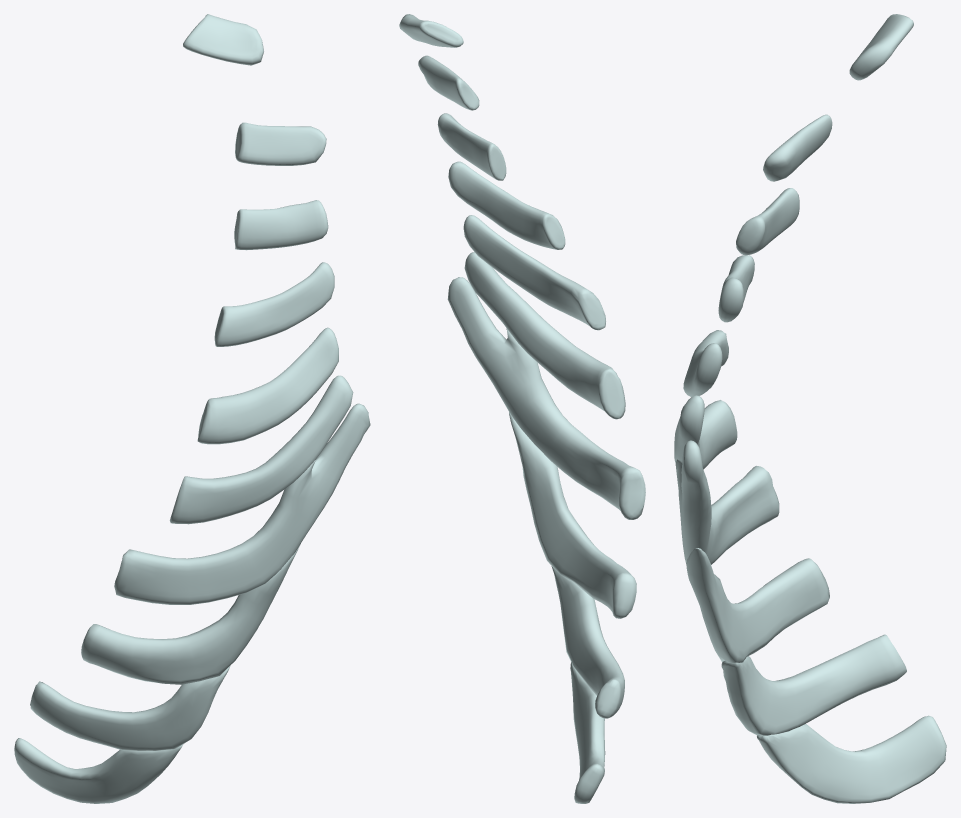
The model's file is aligned-overview-skeleton-connective-01.glb.
The picture shows the model from 3 angles, left to right: view 1: azimuth 30°, elevation 25°; view 2: azimuth 150°, elevation 25°; view 3: azimuth 270°, elevation 25°; orthographic projection. The views are drawn at different scales.
Visible parts, largest first — view 1: O3D_6e4cf05788cb02, O3D_17b7692a87f53c, O3D_3886784e4d1d6e, O3D_c6c207e6651620, O3D_4a6ed5cb930d0a, O3D_d12fc2f24a2388, O3D_b3bf8810636df2, O3D_cab8d41fe4fac6, O3D_2bb5fedb741150, O3D_4d452cd10bf90a; view 2: O3D_6e4cf05788cb02, O3D_17b7692a87f53c, O3D_3886784e4d1d6e, O3D_4a6ed5cb930d0a, O3D_c6c207e6651620, O3D_b3bf8810636df2, O3D_d12fc2f24a2388, O3D_cab8d41fe4fac6, O3D_2bb5fedb741150, O3D_4d452cd10bf90a; view 3: O3D_d12fc2f24a2388, O3D_c6c207e6651620, O3D_17b7692a87f53c, O3D_6e4cf05788cb02, O3D_3886784e4d1d6e, O3D_cab8d41fe4fac6, O3D_2bb5fedb741150, O3D_4a6ed5cb930d0a, O3D_4d452cd10bf90a, O3D_b3bf8810636df2.
Boxes of the visible parts, x1,y1,x2,y2 form: O3D_6e4cf05788cb02: (114, 403, 370, 604); O3D_17b7692a87f53c: (81, 544, 300, 684); O3D_3886784e4d1d6e: (169, 375, 353, 524); O3D_c6c207e6651620: (30, 665, 230, 750); O3D_4a6ed5cb930d0a: (197, 327, 338, 444); O3D_d12fc2f24a2388: (14, 738, 183, 803); O3D_b3bf8810636df2: (214, 262, 334, 346); O3D_cab8d41fe4fac6: (234, 200, 328, 250); O3D_2bb5fedb741150: (235, 122, 326, 165); O3D_4d452cd10bf90a: (183, 14, 263, 65); O3D_6e4cf05788cb02: (447, 277, 645, 519); O3D_17b7692a87f53c: (509, 412, 636, 618); O3D_3886784e4d1d6e: (464, 252, 625, 419); O3D_4a6ed5cb930d0a: (463, 215, 605, 330); O3D_c6c207e6651620: (551, 566, 624, 718); O3D_b3bf8810636df2: (448, 161, 565, 249); O3D_d12fc2f24a2388: (570, 662, 605, 803); O3D_cab8d41fe4fac6: (437, 113, 506, 180); O3D_2bb5fedb741150: (418, 55, 479, 110); O3D_4d452cd10bf90a: (399, 14, 463, 47); O3D_d12fc2f24a2388: (757, 715, 946, 803); O3D_c6c207e6651620: (721, 634, 906, 735); O3D_17b7692a87f53c: (686, 548, 829, 662); O3D_6e4cf05788cb02: (675, 440, 779, 564); O3D_3886784e4d1d6e: (674, 395, 737, 469); O3D_cab8d41fe4fac6: (736, 188, 799, 255); O3D_2bb5fedb741150: (763, 114, 832, 181); O3D_4a6ed5cb930d0a: (683, 330, 728, 396); O3D_4d452cd10bf90a: (849, 14, 913, 80); O3D_b3bf8810636df2: (718, 255, 754, 322).
Bounding box in the file's own units: 0.1188 × 0.3337 × 0.0954.
